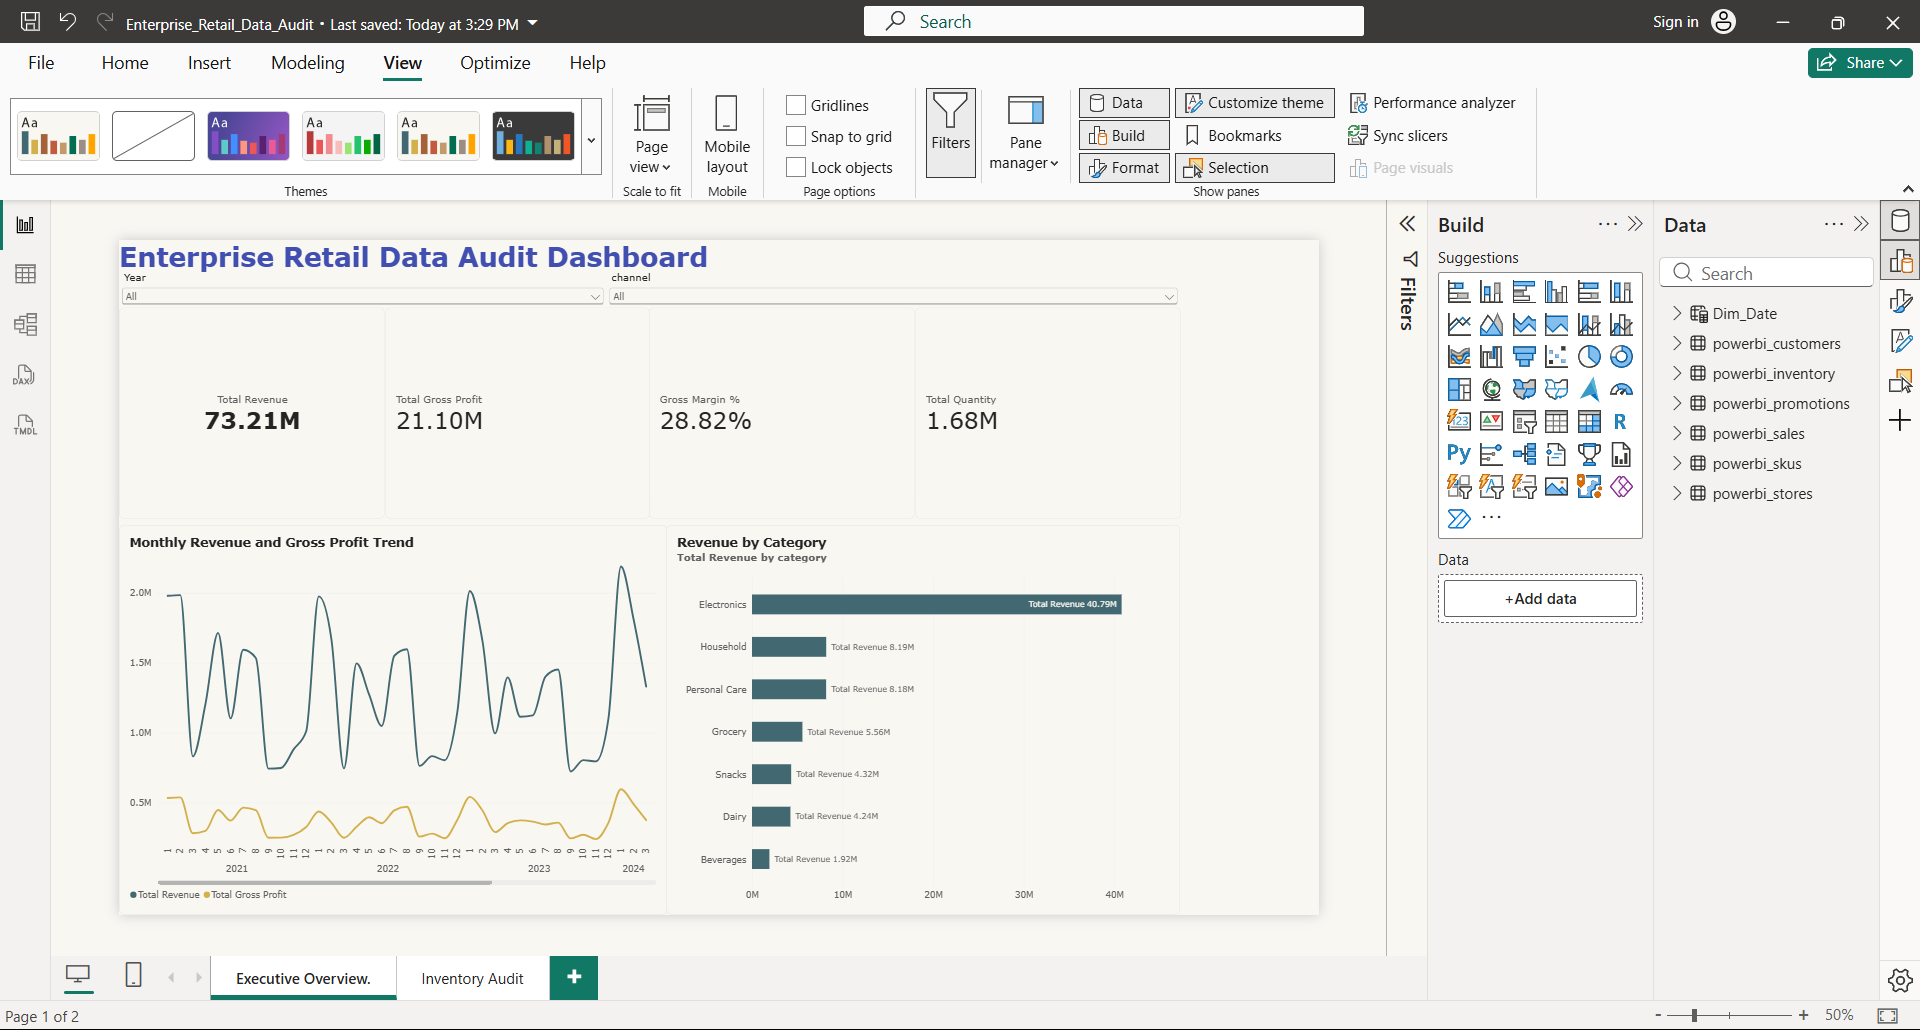

What the dashboard file says about the page in this screenshot:
{"tool":"powerbi","page":{"name":"Executive Overview.","canvas":[1920,1080],"ordinal":0},"visuals":[{"type":"cardVisual","fields":{"Data":["powerbi_sales.Total Revenue"]},"box":[0,108.3,425,338.3],"z":0},{"type":"cardVisual","fields":{"Data":["powerbi_sales.Total Gross Profit"]},"box":[425,108.3,423.3,338.3],"z":1000},{"type":"cardVisual","fields":{"Data":["powerbi_sales.Gross Margin %"]},"box":[848.3,108.3,425,338.3],"z":2000},{"type":"cardVisual","fields":{"Data":["powerbi_sales.Total Quantity"]},"box":[1273.3,108.3,425,338.3],"z":3000},{"type":"textbox","box":[0,0,1153.3,133.5],"z":4000},{"type":"lineChart","title":"Monthly Revenue and Gross Profit Trend","fields":{"Category":["Dim_Date.Year","Dim_Date.MonthNo"],"Y":["powerbi_sales.Total Revenue","powerbi_sales.Total Gross Profit"]},"box":[0,456.5,876.8,622.9],"z":5000},{"type":"clusteredBarChart","title":"Revenue by Category","fields":{"Category":["powerbi_sales.category"],"Y":["powerbi_sales.Total Revenue"]},"box":[876.8,456.5,821.3,622.9],"z":6000},{"type":"slicer","fields":{"Values":["Dim_Date.Year"]},"box":[0,50,780,58.3],"z":7000},{"type":"slicer","fields":{"Values":["powerbi_sales.channel"]},"box":[780,50,918.3,58.3],"z":8000}]}

Visuals, with their boxes on the page's 1920x1080 design canvas (x1, y1, x2, y2). These are canvas units, not pixel positions in the 1920x1030 screenshot, which may show the page scaled, cropped or inside an application window:
cardVisual - powerbi_sales.Total Revenue: pyautogui.locateOnScreen(0, 108, 425, 447)
cardVisual - powerbi_sales.Total Gross Profit: pyautogui.locateOnScreen(425, 108, 848, 447)
cardVisual - powerbi_sales.Gross Margin %: pyautogui.locateOnScreen(848, 108, 1273, 447)
cardVisual - powerbi_sales.Total Quantity: pyautogui.locateOnScreen(1273, 108, 1698, 447)
textbox: pyautogui.locateOnScreen(0, 0, 1153, 134)
"Monthly Revenue and Gross Profit Trend" lineChart: pyautogui.locateOnScreen(0, 456, 877, 1079)
"Revenue by Category" clusteredBarChart: pyautogui.locateOnScreen(877, 456, 1698, 1079)
slicer - Dim_Date.Year: pyautogui.locateOnScreen(0, 50, 780, 108)
slicer - powerbi_sales.channel: pyautogui.locateOnScreen(780, 50, 1698, 108)
